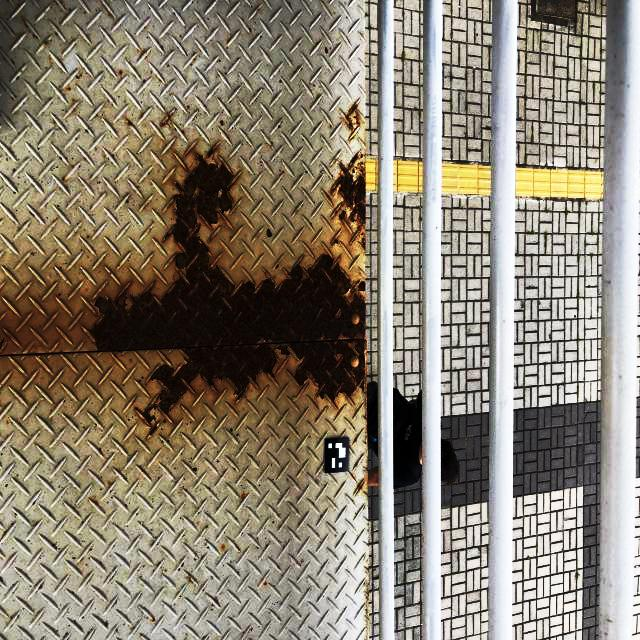Corrosion: (87, 143, 367, 437), (329, 151, 366, 252), (344, 103, 361, 141), (160, 111, 173, 127), (325, 192, 334, 206), (356, 480, 364, 495), (331, 237, 339, 249), (0, 336, 5, 353), (337, 406, 344, 417), (128, 119, 134, 126), (32, 33, 39, 39), (118, 71, 123, 75), (355, 462, 358, 467), (62, 177, 65, 182), (354, 438, 357, 442), (44, 42, 48, 45), (68, 87, 71, 90)
